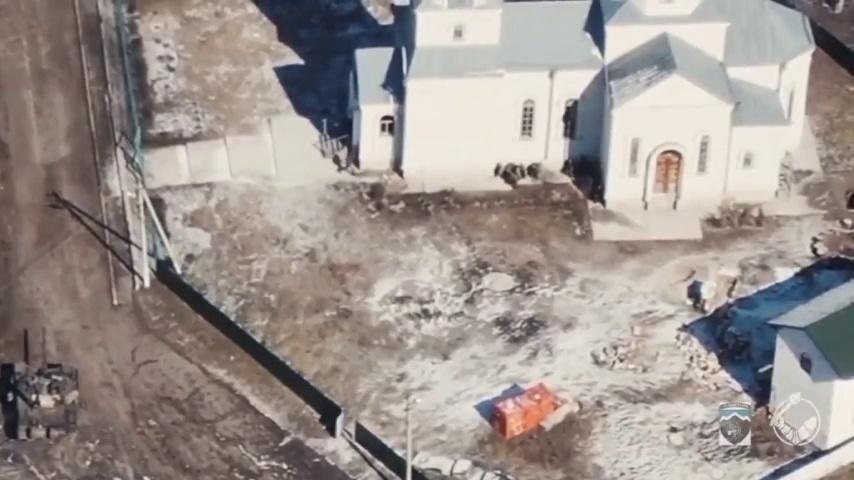tank: (7, 324, 80, 442)
